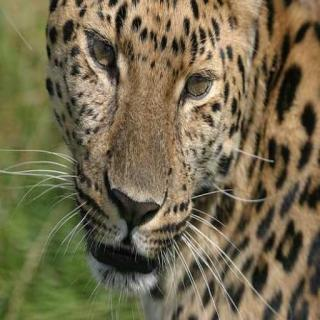Leopard: (32, 0, 320, 320)
